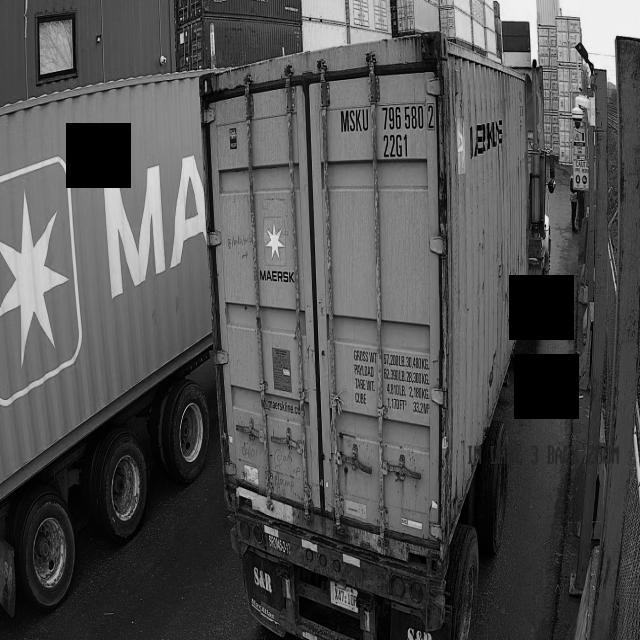container_company_logo: (260, 217, 294, 282)
container_number: (332, 91, 460, 168)
driver: (566, 169, 578, 240)
license_plate: (331, 582, 357, 612)
other_container_info: (352, 340, 433, 418)
truck_with_container: (200, 32, 555, 640), (0, 73, 212, 616)
